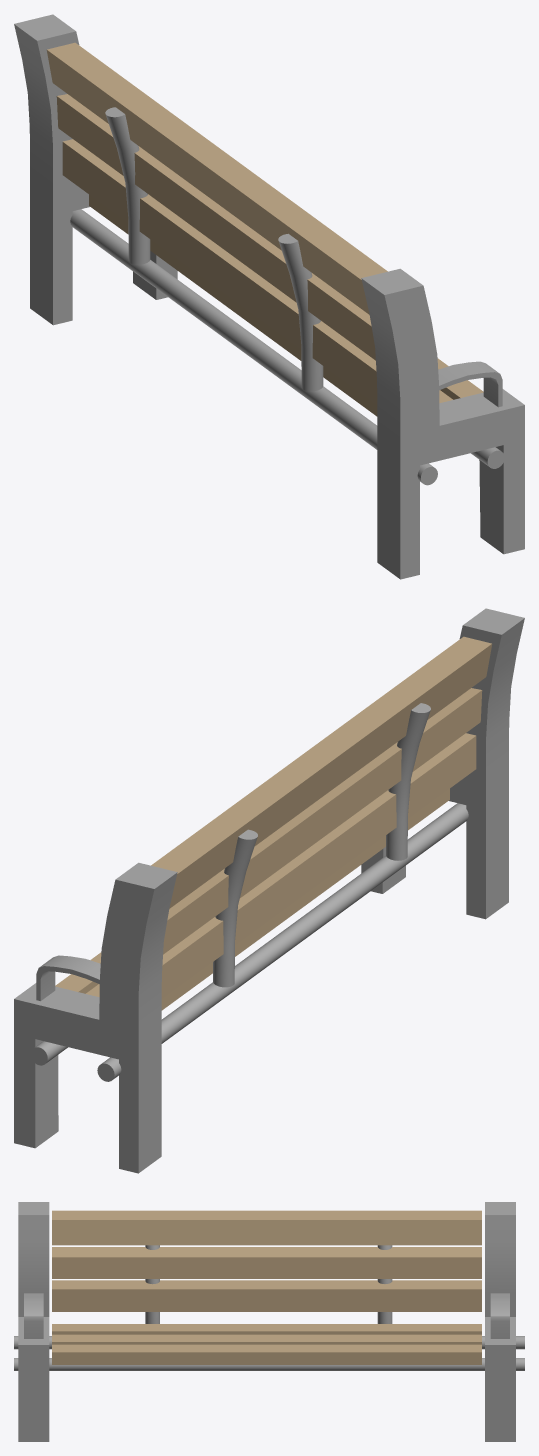
Rendered from Bench_Mesh.fbx.
The picture shows the model from 3 angles, top to bottom: view 1: azimuth 30°, elevation 25°; view 2: azimuth 150°, elevation 25°; view 3: azimuth 270°, elevation 25°; orthographic projection. The views are drawn at different scales.
Visible parts, largest first — view 1: Bench_Mesh; view 2: Bench_Mesh; view 3: Bench_Mesh.
Part boxes in pixels (box(x1,y1,x2,y2)): Bench_Mesh: box(14, 14, 524, 579); Bench_Mesh: box(14, 608, 524, 1173); Bench_Mesh: box(14, 1202, 524, 1441).
Size of the model in its own units: 1.3 by 2.46 by 5.89.
